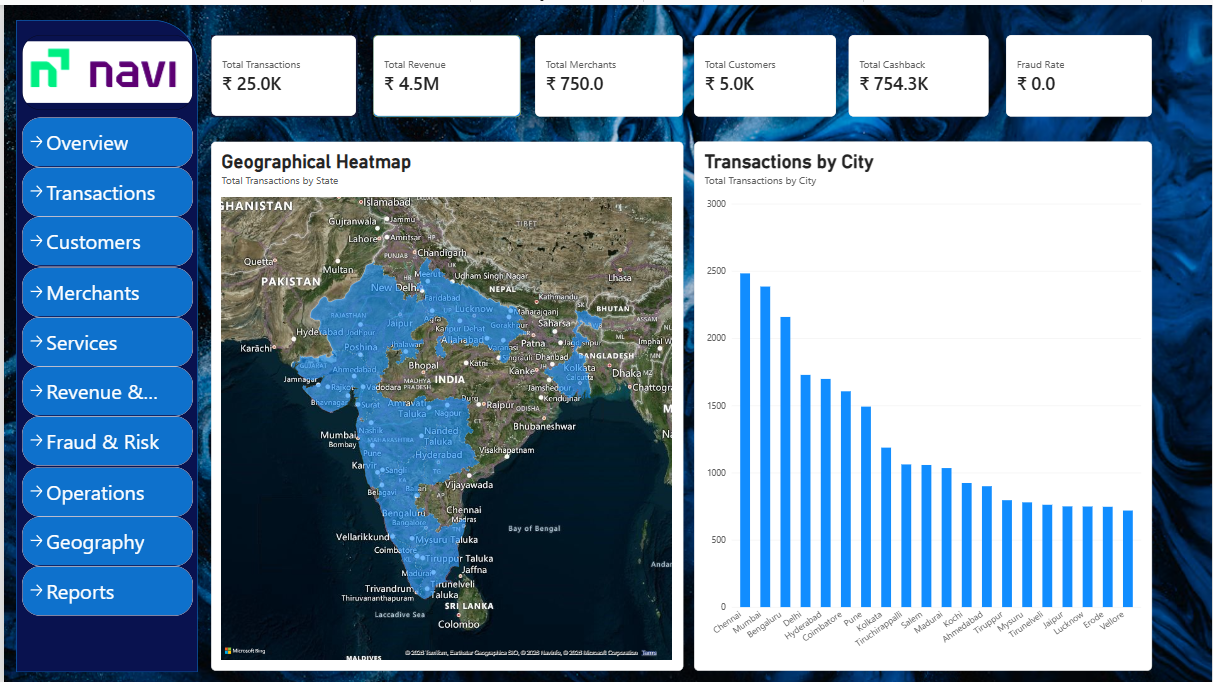

The dashboard page shown, as its layout file describes it:
{"tool":"powerbi","page":{"name":"Geography","canvas":[1920,1080],"ordinal":9},"visuals":[{"type":"cardVisual","fields":{"Data":["_Measures.Total Transactions"]},"box":[328.8,48.2,232.4,130.4],"z":0},{"type":"cardVisual","fields":{"Data":["_Measures.Total Revenue"]},"box":[586.8,48.2,235.3,130.4],"z":1000},{"type":"cardVisual","fields":{"Data":["_Measures.Total Merchants"]},"box":[844.7,48.2,235.3,130.4],"z":2000},{"type":"cardVisual","fields":{"Data":["_Measures.Total Customers"]},"box":[1097,48.2,226.8,130.4],"z":3000},{"type":"cardVisual","fields":{"Data":["_Measures.Total Cashback"]},"box":[1343.6,48.2,223.9,130.4],"z":4000},{"type":"cardVisual","fields":{"Data":["_Measures.Fraud Rate"]},"box":[1593.1,48.2,232.4,130.4],"z":5000},{"type":"clusteredColumnChart","title":"Transactions by City","fields":{"Category":["DimCustomer.City"],"Y":["_Measures.Total Transactions"]},"box":[1097,218.3,728.5,841.9],"z":10000},{"type":"filledMap","title":"Geographical Heatmap","fields":{"Category":["DimCustomer.State"]},"box":[328.8,218.3,751.2,841.9],"z":13000},{"type":"shape","box":[19.8,22.7,289.1,1037.5],"z":16000},{"type":"image","box":[28.3,48.2,272.1,119.1],"z":17000},{"type":"actionButton","box":[28.3,178.6,272.1,79.4],"z":18000},{"type":"actionButton","box":[28.3,258,272.1,79.4],"z":19000},{"type":"actionButton","box":[28.3,734.2,272.1,79.4],"z":20000},{"type":"actionButton","box":[28.3,654.8,272.1,79.4],"z":21000},{"type":"actionButton","box":[28.3,575.4,272.1,79.4],"z":22000},{"type":"actionButton","box":[28.3,337.3,272.1,79.4],"z":23000},{"type":"actionButton","box":[28.3,416.7,272.1,79.4],"z":24000},{"type":"actionButton","box":[28.3,496.1,272.1,79.4],"z":25000},{"type":"actionButton","box":[28.3,813.5,272.1,79.4],"z":26000},{"type":"actionButton","box":[28.3,892.9,272.1,79.4],"z":27000}]}

Visuals, with their boxes in screenshot pixels (x1, y1, x2, y2), scaled from the page's 1920x1080 canvas onto the 1213x682 screenshot:
cardVisual - _Measures.Total Transactions: BBox(208, 30, 355, 113)
cardVisual - _Measures.Total Revenue: BBox(371, 30, 519, 113)
cardVisual - _Measures.Total Merchants: BBox(534, 30, 682, 113)
cardVisual - _Measures.Total Customers: BBox(693, 30, 836, 113)
cardVisual - _Measures.Total Cashback: BBox(849, 30, 990, 113)
cardVisual - _Measures.Fraud Rate: BBox(1006, 30, 1153, 113)
"Transactions by City" clusteredColumnChart: BBox(693, 138, 1153, 669)
"Geographical Heatmap" filledMap: BBox(208, 138, 682, 669)
shape: BBox(13, 14, 195, 669)
image: BBox(18, 30, 190, 106)
actionButton: BBox(18, 113, 190, 163)
actionButton: BBox(18, 163, 190, 213)
actionButton: BBox(18, 464, 190, 514)
actionButton: BBox(18, 413, 190, 464)
actionButton: BBox(18, 363, 190, 413)
actionButton: BBox(18, 213, 190, 263)
actionButton: BBox(18, 263, 190, 313)
actionButton: BBox(18, 313, 190, 363)
actionButton: BBox(18, 514, 190, 564)
actionButton: BBox(18, 564, 190, 614)
